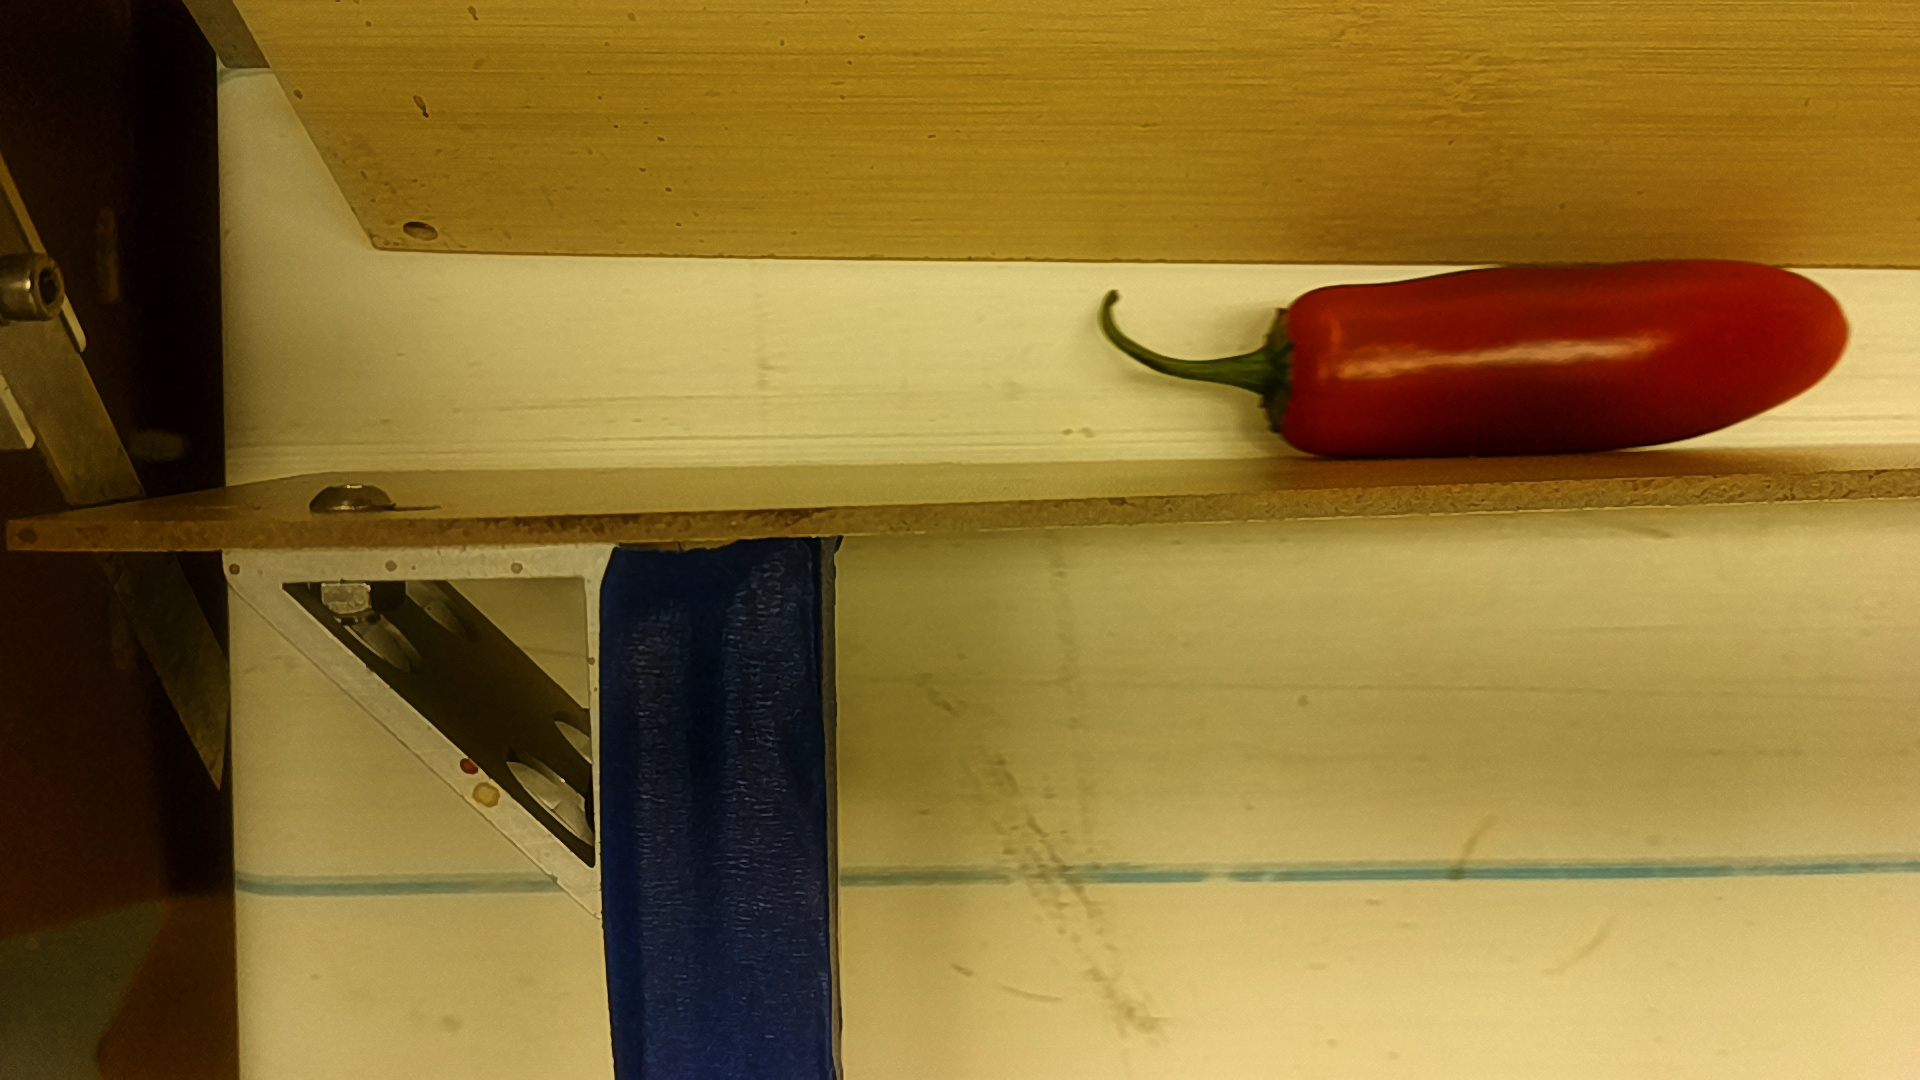Cut Point: (1251, 280, 1327, 462)
